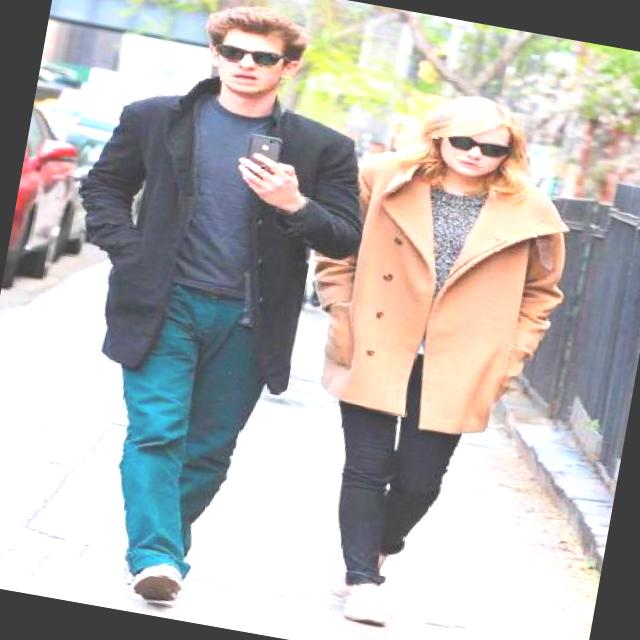Person: (24, 0, 402, 637), (272, 41, 638, 628)
